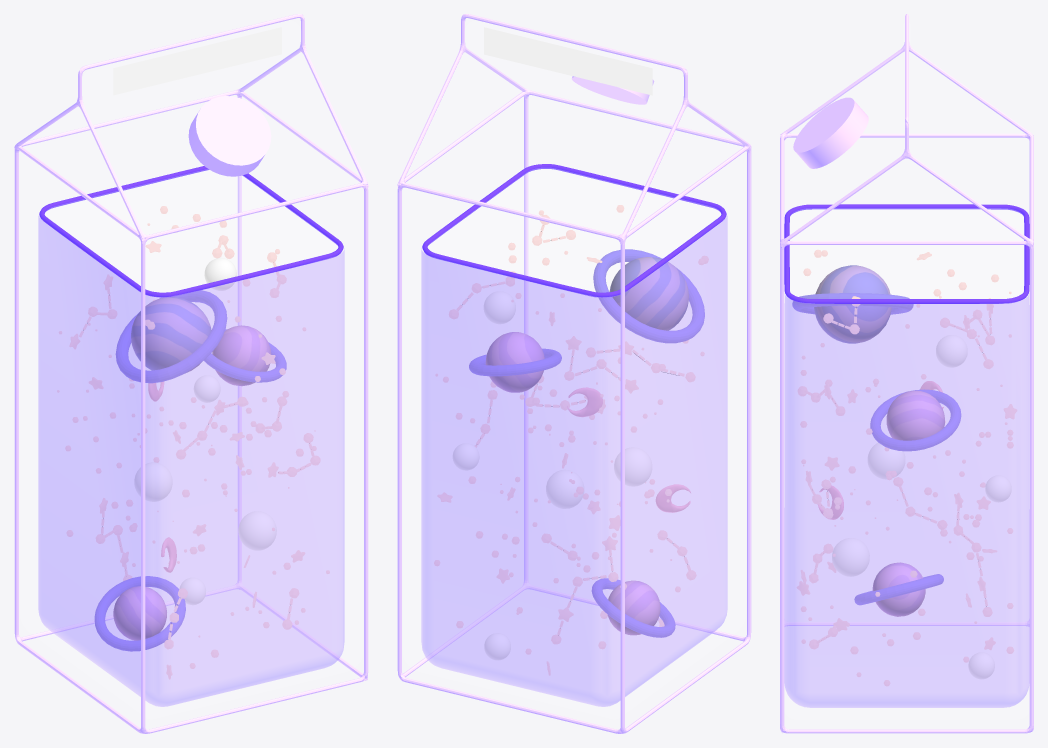
The model's file is milk-transformed.glb.
3 renders of one model, left to right at view 1: azimuth 30°, elevation 25°; view 2: azimuth 150°, elevation 25°; view 3: azimuth 270°, elevation 25°, orthographic.
Parts seen in each view (by area): view 1: SpaceMilk; view 2: SpaceMilk; view 3: SpaceMilk.
Part boxes in pixels (x1=…): SpaceMilk: x1=14, y1=14, x2=368, y2=733; SpaceMilk: x1=397, y1=14, x2=751, y2=733; SpaceMilk: x1=780, y1=14, x2=1033, y2=733.
Size of the model in its own units: 1.36 by 3.57 by 1.34.
Materials: 14 (1 with a texture image).
